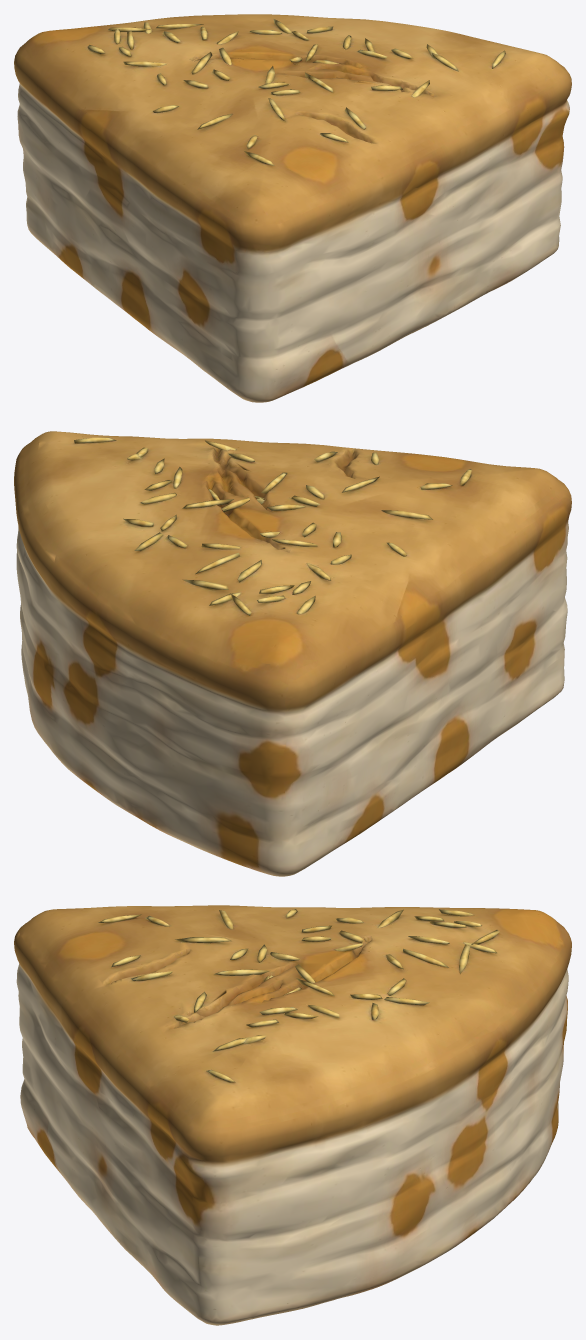
The model's file is scone--cheese-ground.glb.
3 views of the same model, one above another, from view 1: azimuth 30°, elevation 25°; view 2: azimuth 150°, elevation 25°; view 3: azimuth 270°, elevation 25° (orthographic). The views are drawn at different scales.
Visible parts, largest first — view 1: scone_cheese-ground; view 2: scone_cheese-ground; view 3: scone_cheese-ground.
Part boxes in pixels (<box>): scone_cheese-ground: <box>14,14,571,402</box>; scone_cheese-ground: <box>14,431,571,876</box>; scone_cheese-ground: <box>14,905,571,1325</box>.
Size of the model in its own units: 0.9403 by 0.4763 by 0.9842.
1 material, 1 textured.
